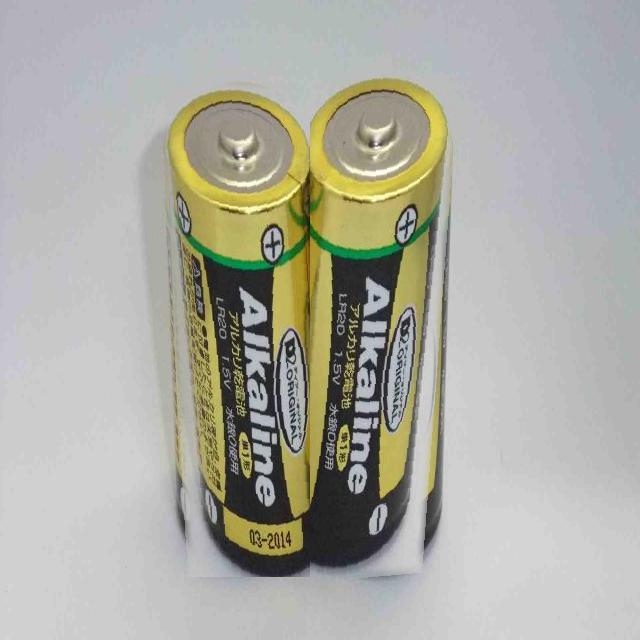battery: (158, 72, 313, 577), (310, 74, 460, 586)
